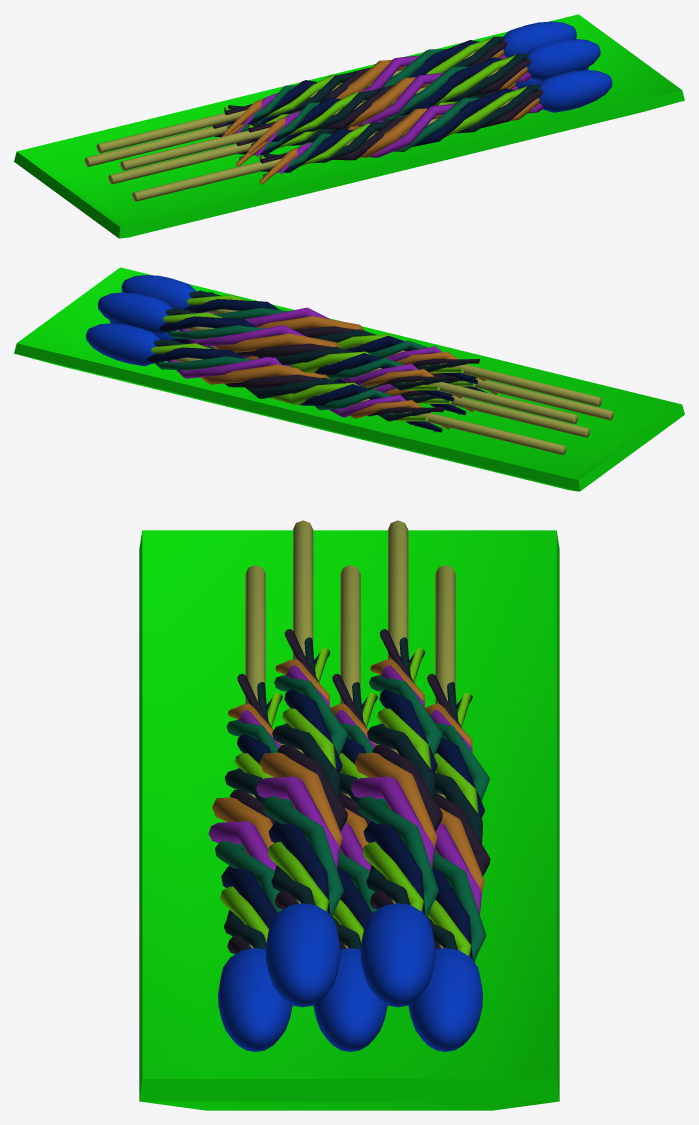
Rendered from Nakji horongi.fbx.
The picture shows the model from 3 angles, top to bottom: view 1: azimuth 30°, elevation 25°; view 2: azimuth 150°, elevation 25°; view 3: azimuth 270°, elevation 25°; orthographic projection. The views are drawn at different scales.
Visible parts, largest first — view 1: Nakji horongi; view 2: Nakji horongi; view 3: Nakji horongi.
Boxes of the visible parts, <box> form: Nakji horongi: <box>14,14,684,238</box>; Nakji horongi: <box>14,267,684,491</box>; Nakji horongi: <box>139,520,559,1110</box>.
Size of the model in its own units: 55.06 by 7.27 by 17.71.
